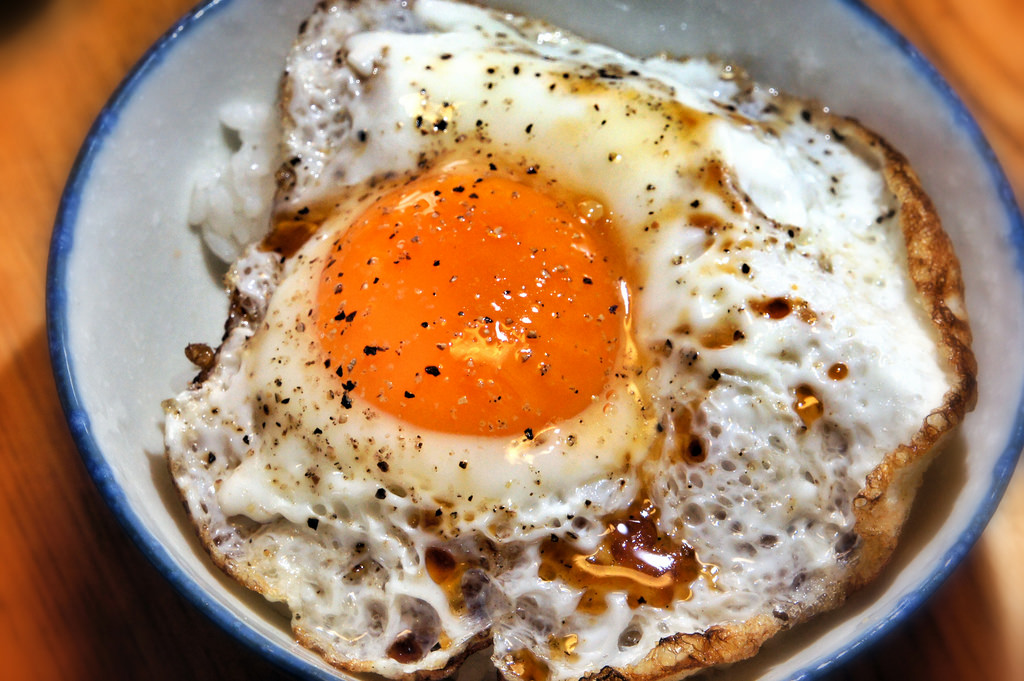fried egg: (189, 1, 967, 668)
